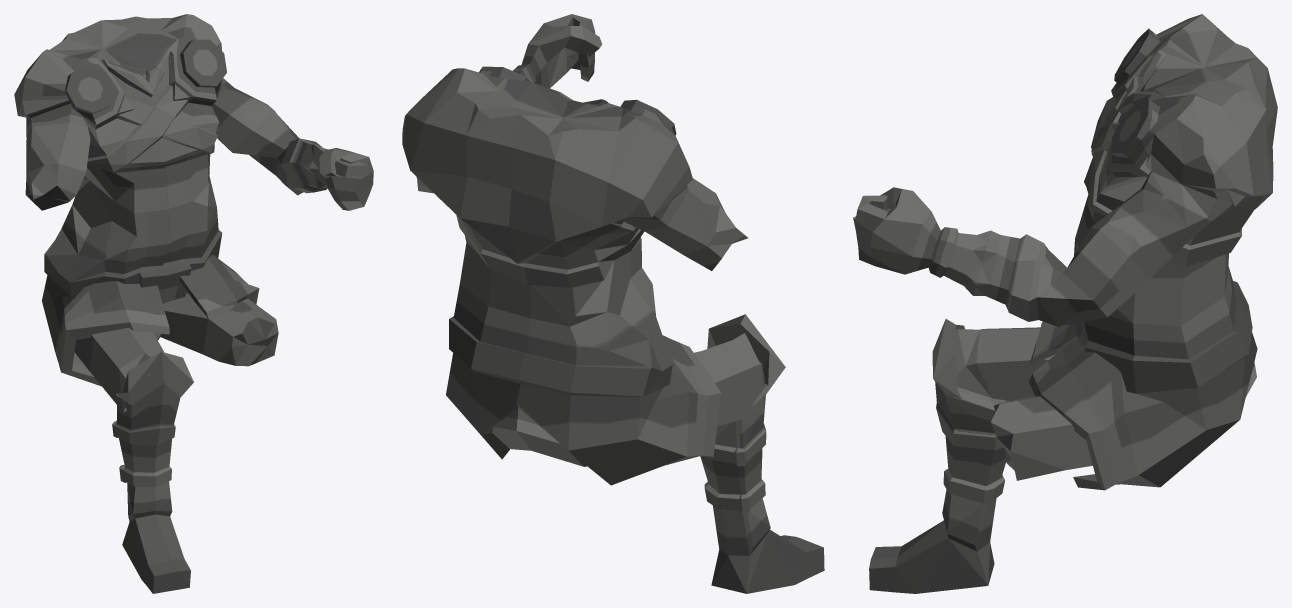
The model's file is SM_Prop_Statue_04_Damaged_01.fbx.
The picture shows the model from 3 angles, left to right: view 1: azimuth 30°, elevation 25°; view 2: azimuth 150°, elevation 25°; view 3: azimuth 270°, elevation 25°; orthographic projection. The views are drawn at different scales.
Parts seen in each view (by area): view 1: SM_Prop_Statue_04_Damaged_01; view 2: SM_Prop_Statue_04_Damaged_01; view 3: SM_Prop_Statue_04_Damaged_01.
Boxes of the visible parts, box(x1,y1,x2,y2) form: SM_Prop_Statue_04_Damaged_01: box(14, 14, 373, 593); SM_Prop_Statue_04_Damaged_01: box(402, 14, 824, 593); SM_Prop_Statue_04_Damaged_01: box(853, 14, 1277, 593).
Bounding box in the file's own units: 73.3 × 116 × 77.87.
